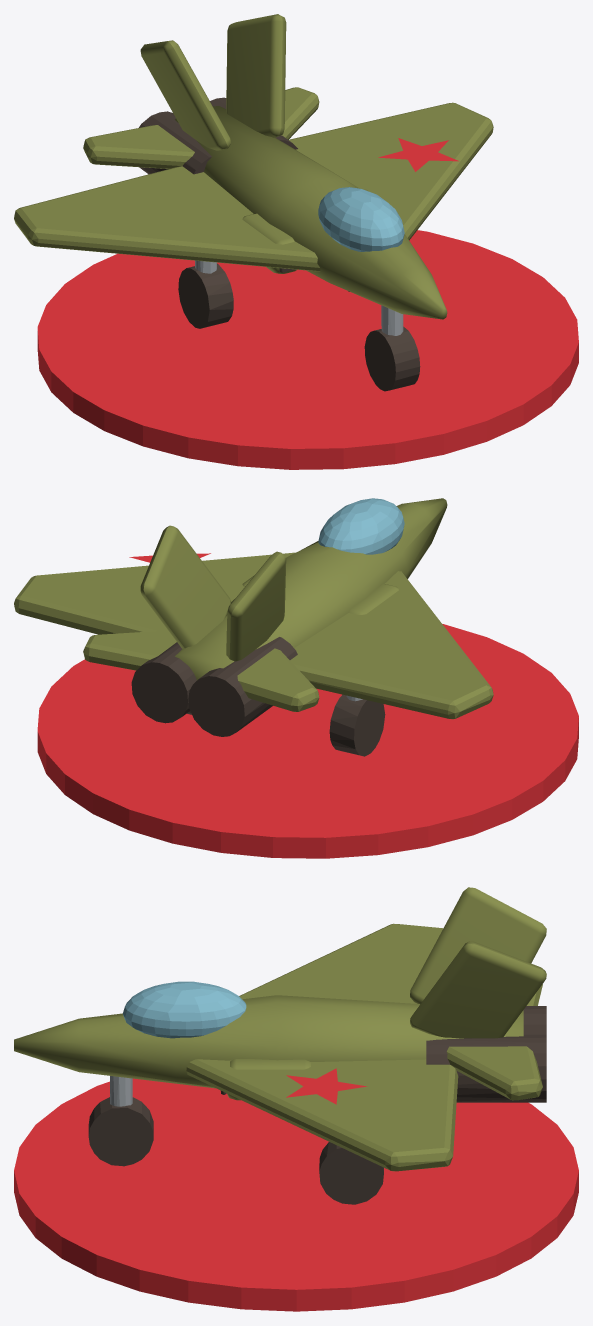
The model's file is soviet_union_air_force_lod0.glb.
3 views of the same model, one above another, from view 1: azimuth 30°, elevation 25°; view 2: azimuth 150°, elevation 25°; view 3: azimuth 270°, elevation 25° (orthographic). The views are drawn at different scales.
Visible parts, largest first — view 1: base_pedestal, body_hull; view 2: base_pedestal, body_hull; view 3: base_pedestal, body_hull.
Part boxes in pixels (x1=…): base_pedestal: x1=37, y1=230, x2=578, y2=469; body_hull: x1=14, y1=14, x2=493, y2=391; base_pedestal: x1=37, y1=624, x2=578, y2=858; body_hull: x1=14, y1=498, x2=493, y2=756; base_pedestal: x1=14, y1=1078, x2=578, y2=1311; body_hull: x1=14, y1=887, x2=546, y2=1204.
Bounding box in the file's own units: 0.78 × 0.4217 × 0.78.
